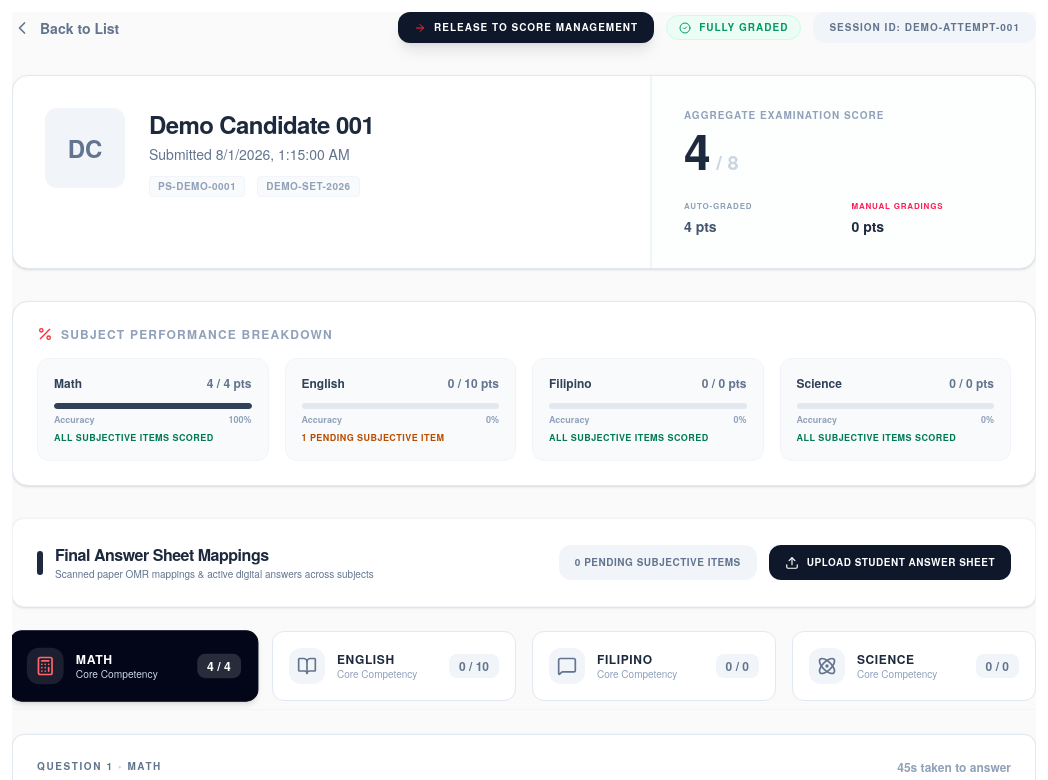
ExamReviewDetail › keeps release available and shows the backend handoff conflict
Click the button "Release to Score Management".
click(526, 28)  # box [398,12,654,43]
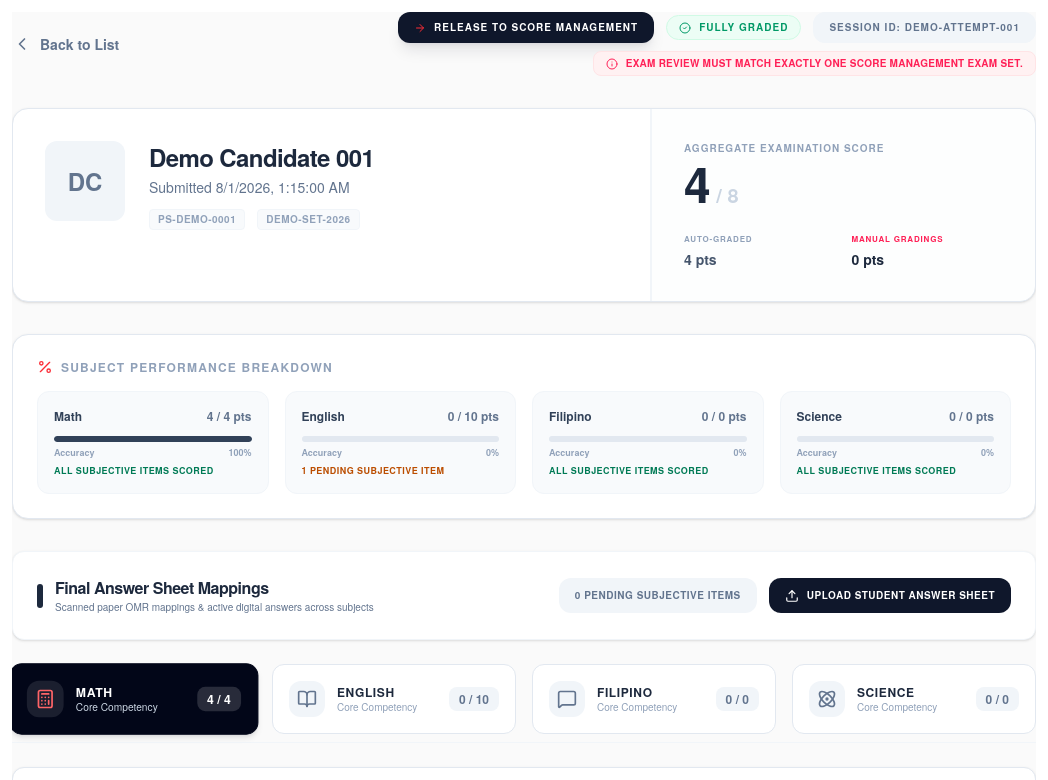
Expected: the text "Exam Review must match exactly one Score Management Exam Set." is shown, [593,51,1036,76]
